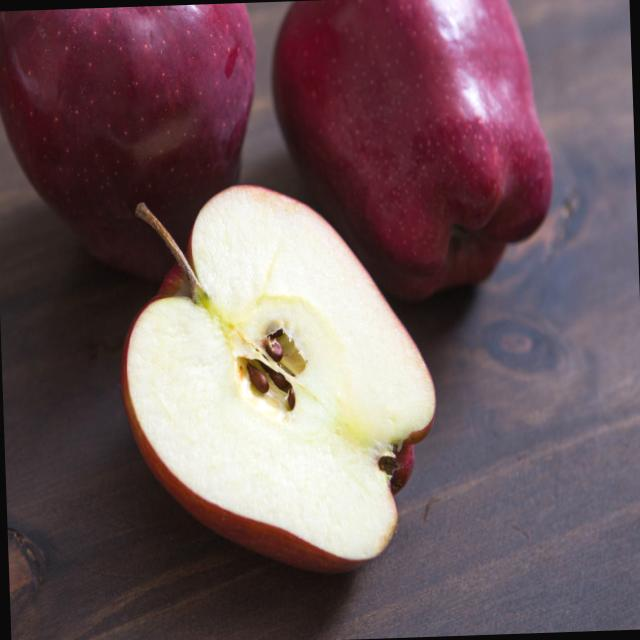Fresh_Apple: (110, 160, 460, 580), (252, 0, 638, 284)
